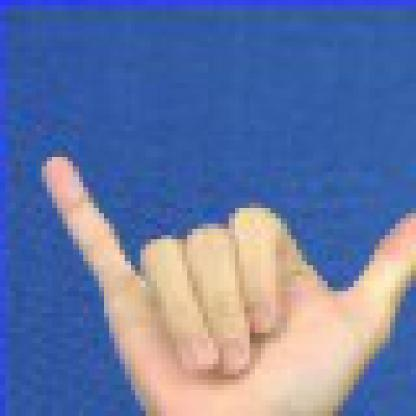six: (15, 119, 410, 410)
